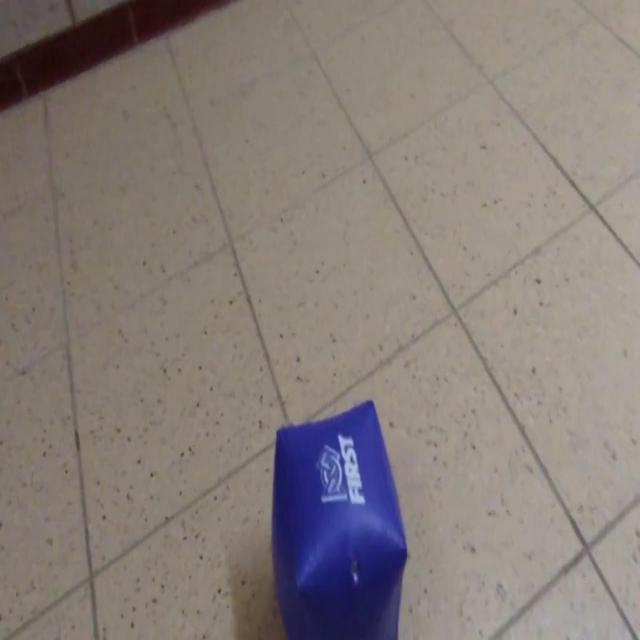frc_cube: (271, 394, 410, 640)
